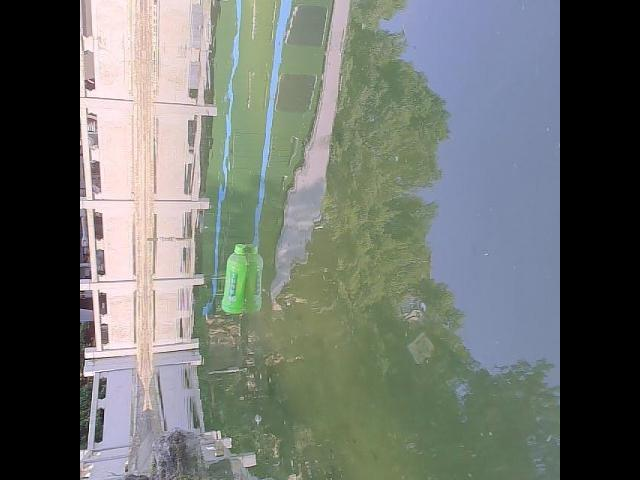Bottle: (217, 236, 253, 320)
